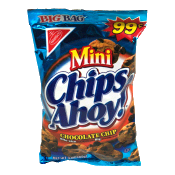grozi_107: (27, 9, 147, 166)
